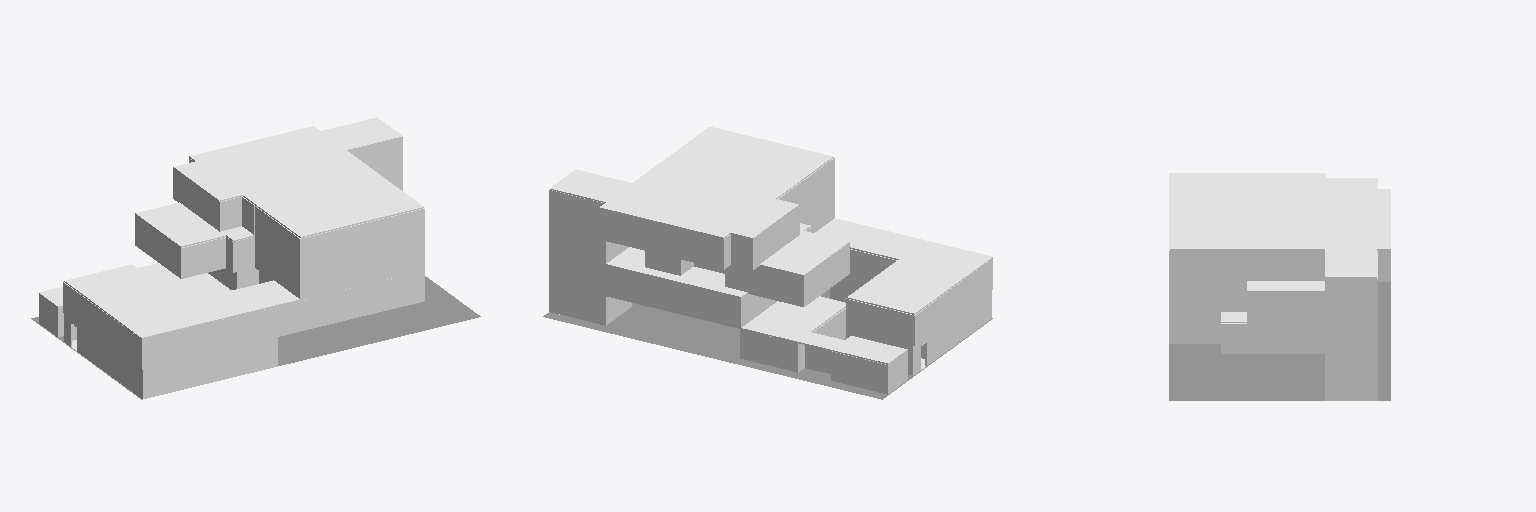
File: Nivel1.obj
The picture shows the model from 3 angles: view 1: azimuth 30°, elevation 25°; view 2: azimuth 150°, elevation 25°; view 3: azimuth 270°, elevation 25°; orthographic projection.
Parts seen in each view (by area): view 1: room_155_777, room_152_773, ground_1, room_157_779, wall_116_695, wall_118_707, wall_123_737, wall_67_401, wall_95_568, room_158_780, room_150_771, wall_115_689 (+12 smaller); view 2: room_155_777, room_152_773, ground_1, room_157_779, room_150_771, wall_56_334, wall_24_142, room_158_780, wall_103_616, room_151_772, wall_115_689, wall_32_190 (+21 smaller); view 3: room_155_777, ground_1, room_157_779, wall_124_743, wall_90_538, wall_68_407, wall_37_220, room_152_773, wall_44_262, wall_48_286, wall_94_562, wall_41_245 (+5 smaller).
Part boxes in pixels (x1,y1,x2,y2): room_155_777: (173,117,402,204); room_152_773: (64,264,299,338); ground_1: (31,276,480,399); room_157_779: (255,174,423,237); wall_116_695: (142,306,277,369); wall_118_707: (143,337,277,398); wall_123_737: (300,209,424,269); wall_67_401: (300,240,424,300); wall_95_568: (312,270,424,328); room_158_780: (135,202,253,247); room_150_771: (39,263,231,307); wall_115_689: (83,297,141,369); room_155_777: (550,160,798,239); room_152_773: (815,218,992,314); ground_1: (543,289,992,399); room_157_779: (665,127,833,189); room_150_771: (741,296,907,364); wall_56_334: (599,209,723,269); wall_24_142: (662,279,740,328); room_158_780: (760,223,849,276); wall_103_616: (846,299,914,345); room_151_772: (606,247,747,297); wall_115_689: (935,259,992,330); wall_32_190: (605,266,661,309); room_155_777: (1260,178,1390,278); ground_1: (1169,282,1390,400); room_157_779: (1170,189,1259,250); wall_124_743: (1169,251,1259,281); wall_90_538: (1247,293,1324,323); wall_68_407: (1169,282,1246,312); wall_37_220: (1247,324,1324,353); room_152_773: (1169,173,1324,189); wall_44_262: (1325,340,1377,370); wall_48_286: (1325,309,1377,339); wall_94_562: (1169,313,1220,343); wall_41_245: (1325,371,1377,400).
Size of the model in its own units: 3019 by 1048 by 1709.